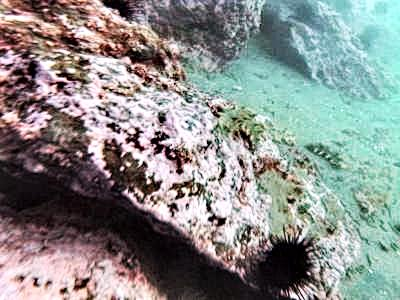urchin: (247, 223, 329, 295)
